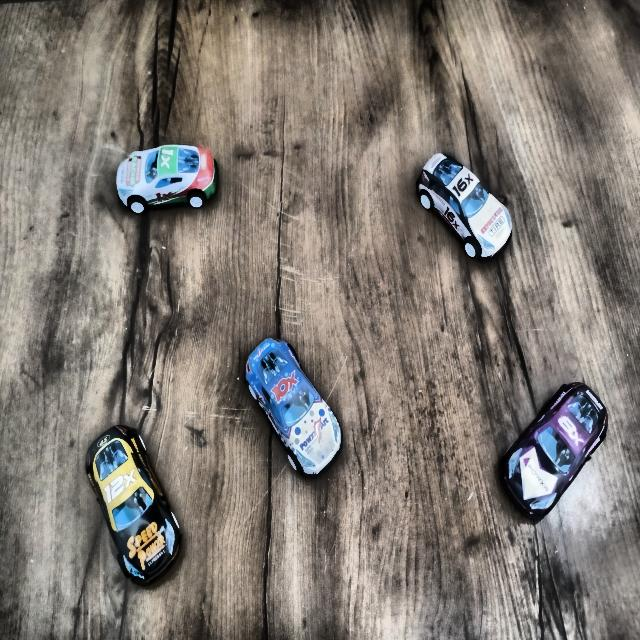Car: (84, 421, 184, 592), (498, 382, 608, 524), (246, 333, 348, 484), (415, 148, 513, 262), (113, 143, 221, 216)
